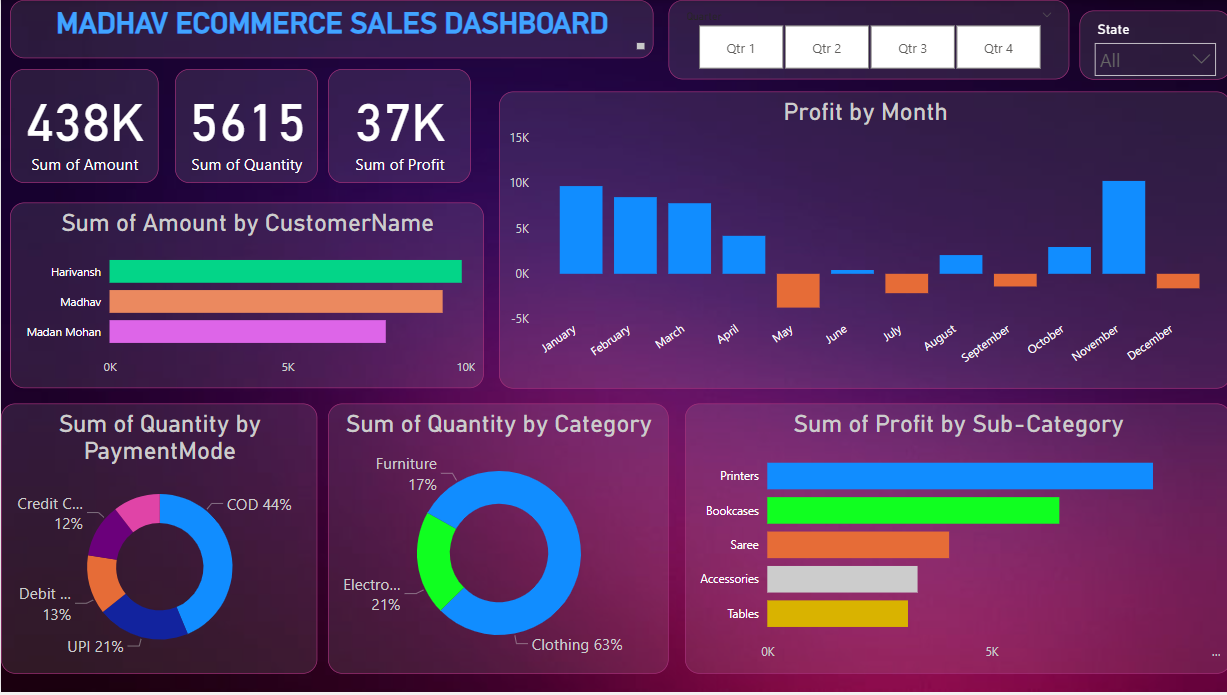

The dashboard page shown, as its layout file describes it:
{"tool":"powerbi","page":{"name":"Page 1","canvas":[1280,720],"ordinal":0},"visuals":[{"type":"textbox","title":"MADHAV ECOMMERCE SALES DASHBOARD","box":[9.4,0,670,60.9],"z":0},{"type":"columnChart","title":"Profit by Month","fields":{"Y":["Details.Profit"],"Category":["Orders.Order Date.Variation.Date Hierarchy.Month"]},"box":[518.5,95.3,762.2,309.2],"z":1000},{"type":"clusteredBarChart","fields":{"Category":["Details.Sub-Category"],"Y":["Details.Profit"]},"box":[712.2,420.1,568.5,281.1],"z":2000},{"type":"donutChart","fields":{"Y":["Details.Quantity"],"Category":["Details.Category"]},"box":[340.5,420.1,354.5,281.1],"z":3000},{"type":"donutChart","fields":{"Y":["Details.Quantity"],"Category":["Details.PaymentMode"]},"box":[0,420.1,329.5,281.1],"z":4000},{"type":"card","fields":{"Values":["Details.Amount"]},"box":[9.4,71.8,154.6,118.7],"z":5000},{"type":"card","fields":{"Values":["Details.Quantity"]},"box":[181.2,71.8,148.4,118.7],"z":6000},{"type":"card","fields":{"Values":["Details.Profit"]},"box":[340.5,71.8,148.4,118.7],"z":7000},{"type":"barChart","fields":{"Y":["Details.Amount"],"Category":["Orders.CustomerName"]},"box":[9.4,210.8,493.5,193.7],"z":8000},{"type":"slicer","fields":{"Values":["Orders.Order Date.Variation.Date Hierarchy.Quarter"]},"box":[695,0,417,82.8],"z":9000},{"type":"slicer","fields":{"Values":["Orders.State"]},"box":[1123,10.9,157.7,71.8],"z":10000}]}

Visuals, with their boxes in screenshot pixels (x1, y1, x2, y2), scaled from the page's 1280x720 canvas onto the 1227x695 screenshot:
"MADHAV ECOMMERCE SALES DASHBOARD" textbox: box=[9, 0, 651, 59]
"Profit by Month" columnChart: box=[497, 92, 1226, 390]
clusteredBarChart - Details.Sub-Category x Details.Profit: box=[683, 406, 1226, 677]
donutChart - Details.Quantity x Details.Category: box=[326, 406, 666, 677]
donutChart - Details.Quantity x Details.PaymentMode: box=[0, 406, 316, 677]
card - Details.Amount: box=[9, 69, 157, 184]
card - Details.Quantity: box=[174, 69, 316, 184]
card - Details.Profit: box=[326, 69, 469, 184]
barChart - Details.Amount x Orders.CustomerName: box=[9, 203, 482, 390]
slicer - Orders.Order Date.Variation.Date Hierarchy.Quarter: box=[666, 0, 1066, 80]
slicer - Orders.State: box=[1077, 11, 1226, 80]
